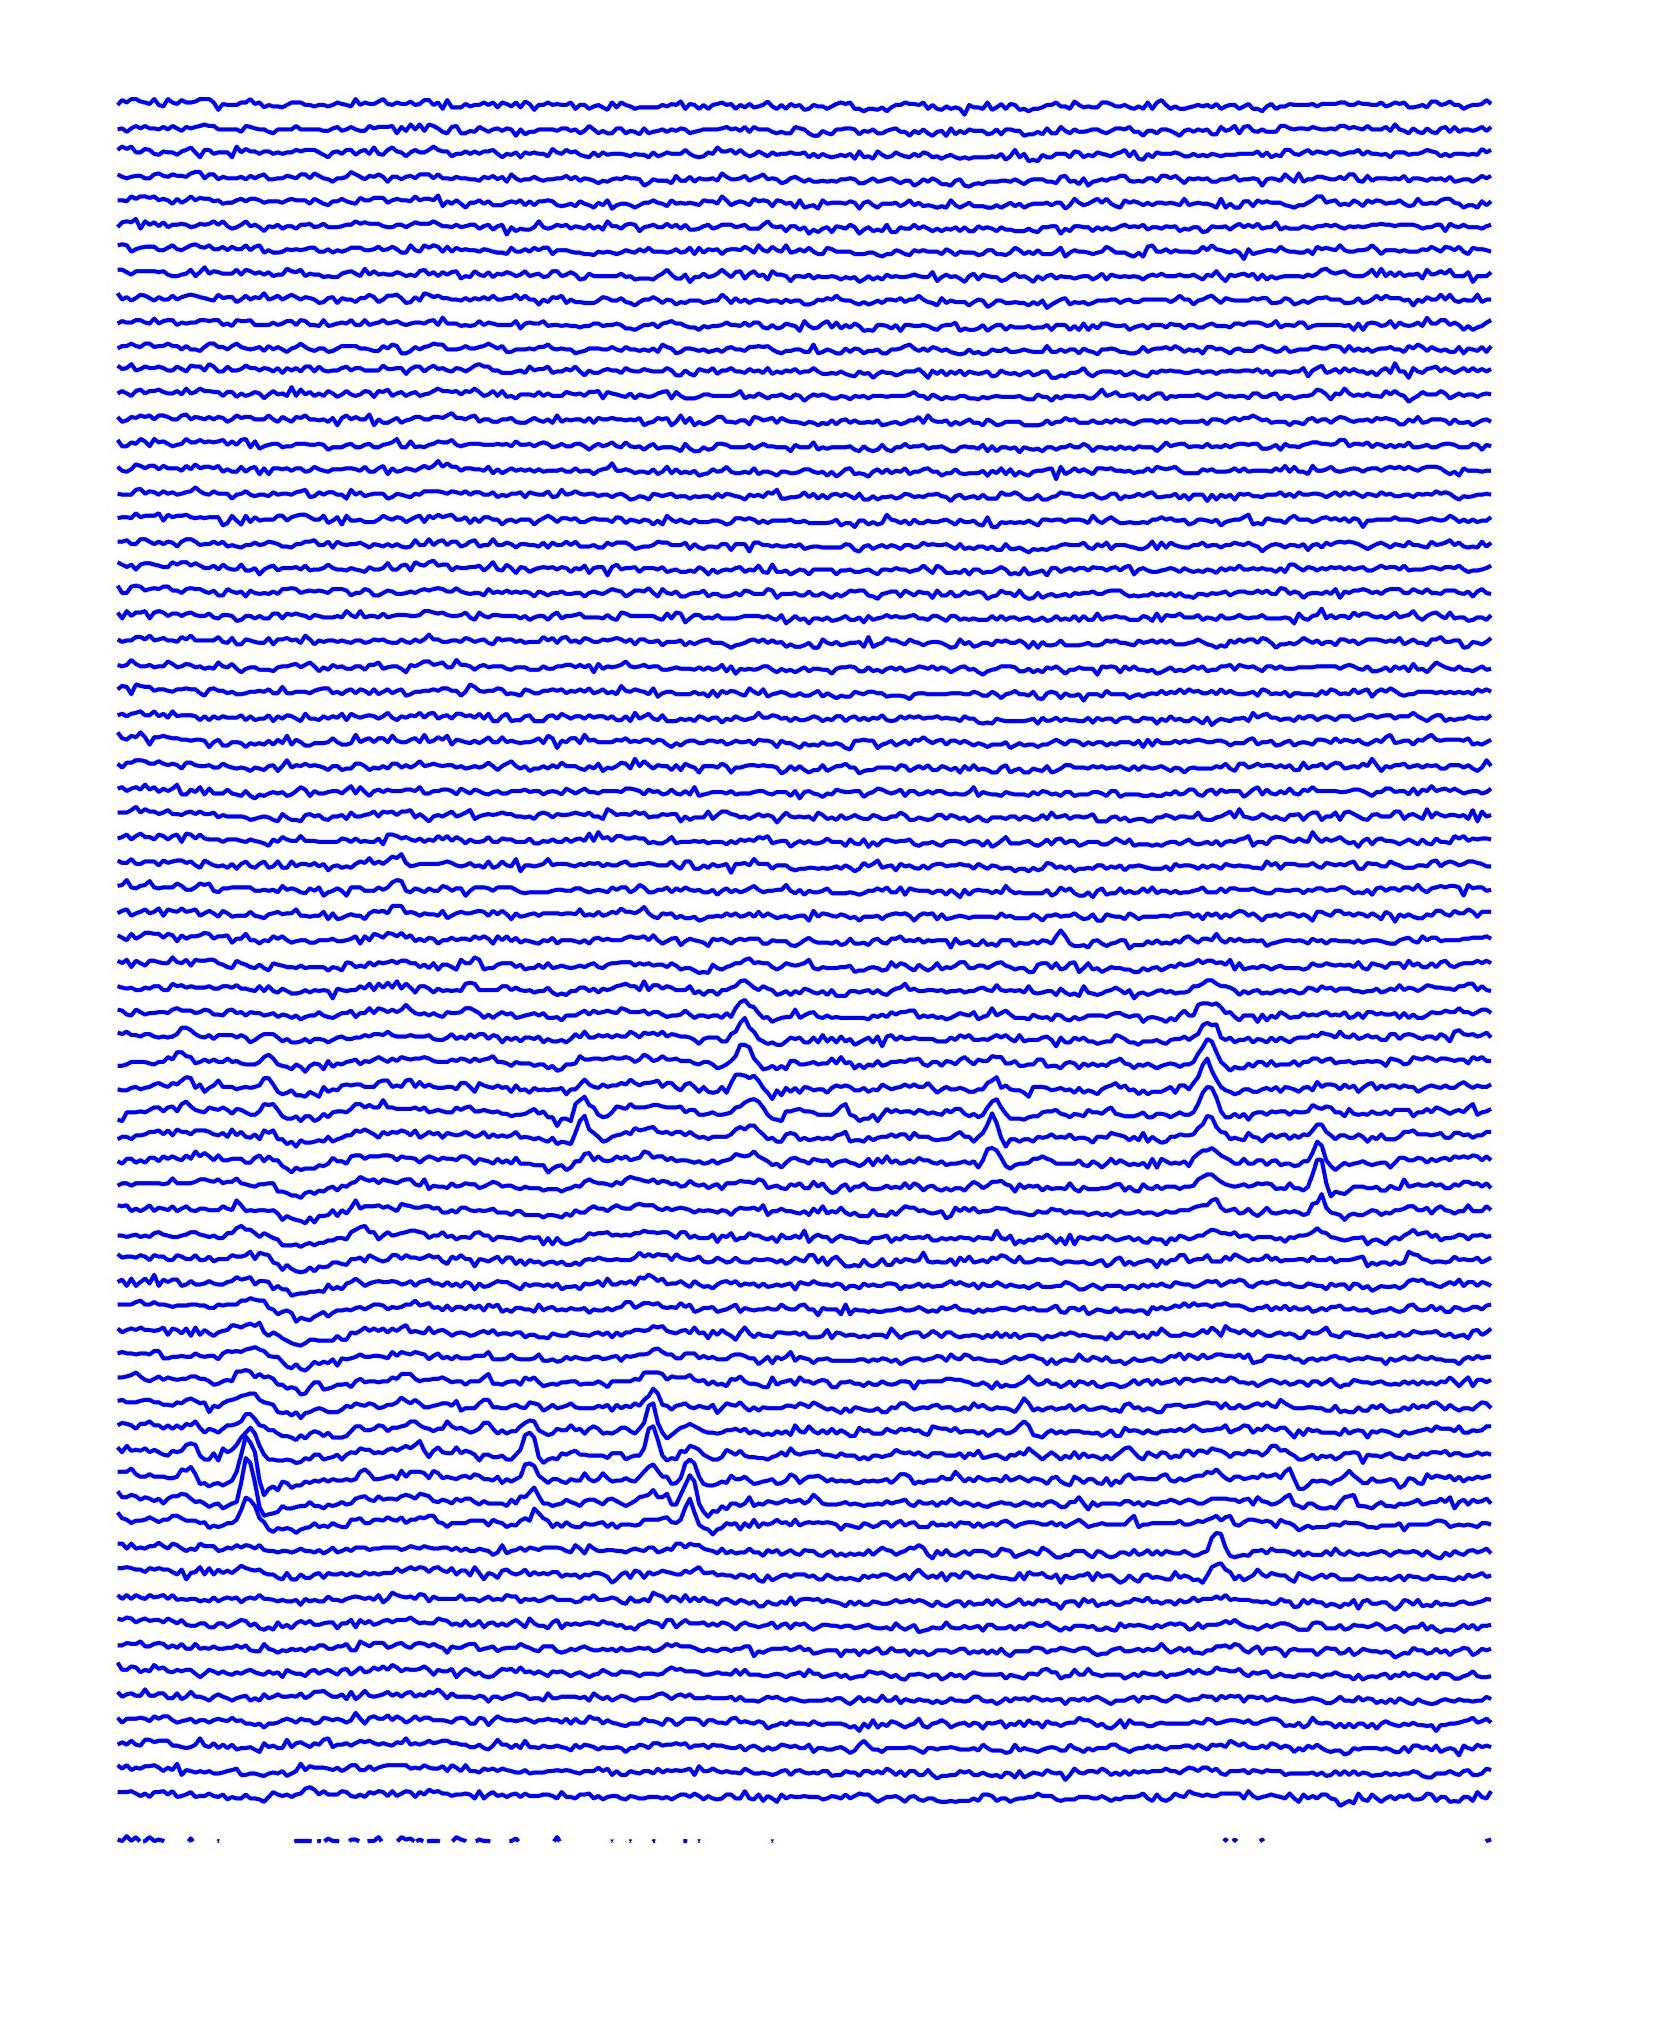defect: (492, 1405, 556, 1560), (700, 969, 763, 1122), (1174, 1002, 1234, 1154), (216, 1403, 276, 1541), (956, 1075, 1022, 1194), (1297, 1097, 1345, 1241), (1174, 1511, 1253, 1597), (537, 1076, 603, 1164), (620, 1369, 672, 1472), (662, 1454, 716, 1533), (1002, 1383, 1042, 1459)
